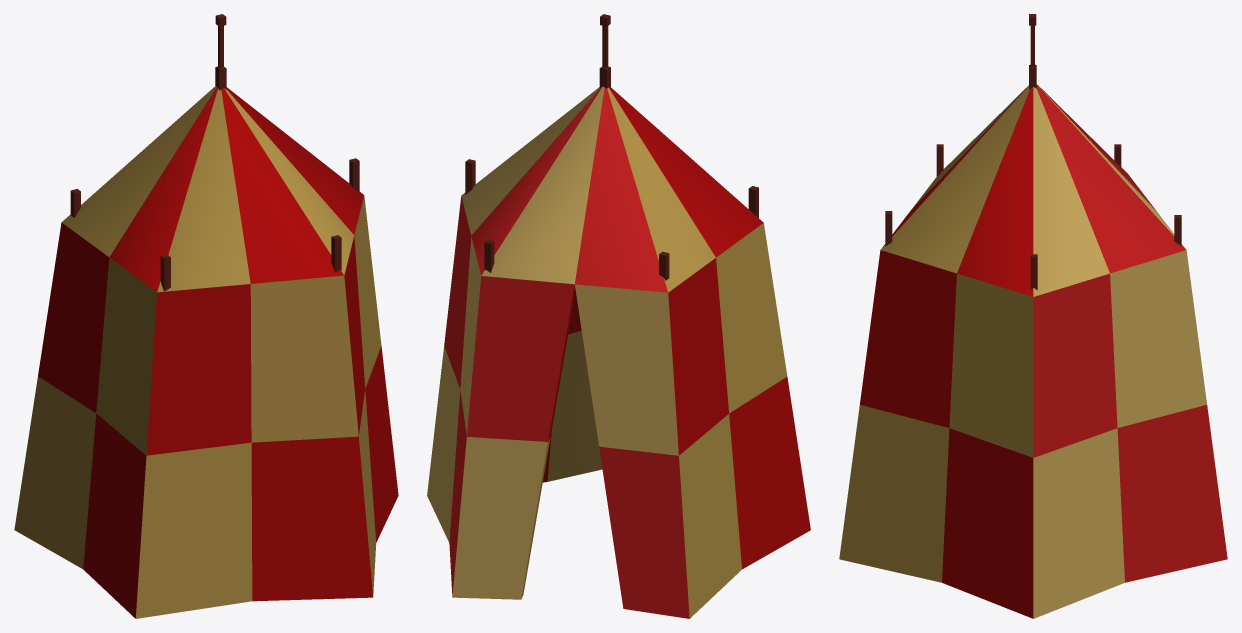
File: tent01.fbx
3 views of the same model, side by side, from view 1: azimuth 30°, elevation 25°; view 2: azimuth 150°, elevation 25°; view 3: azimuth 270°, elevation 25° (orthographic).
Parts seen in each view (by area): view 1: polySurface13; view 2: polySurface13; view 3: polySurface13.
Part boxes in pixels (x1,y1,x2,y2): polySurface13: [14, 14, 398, 618]; polySurface13: [427, 14, 810, 618]; polySurface13: [839, 14, 1227, 618].
Size of the model in its own units: 6.78 by 10.5 by 7.13.
